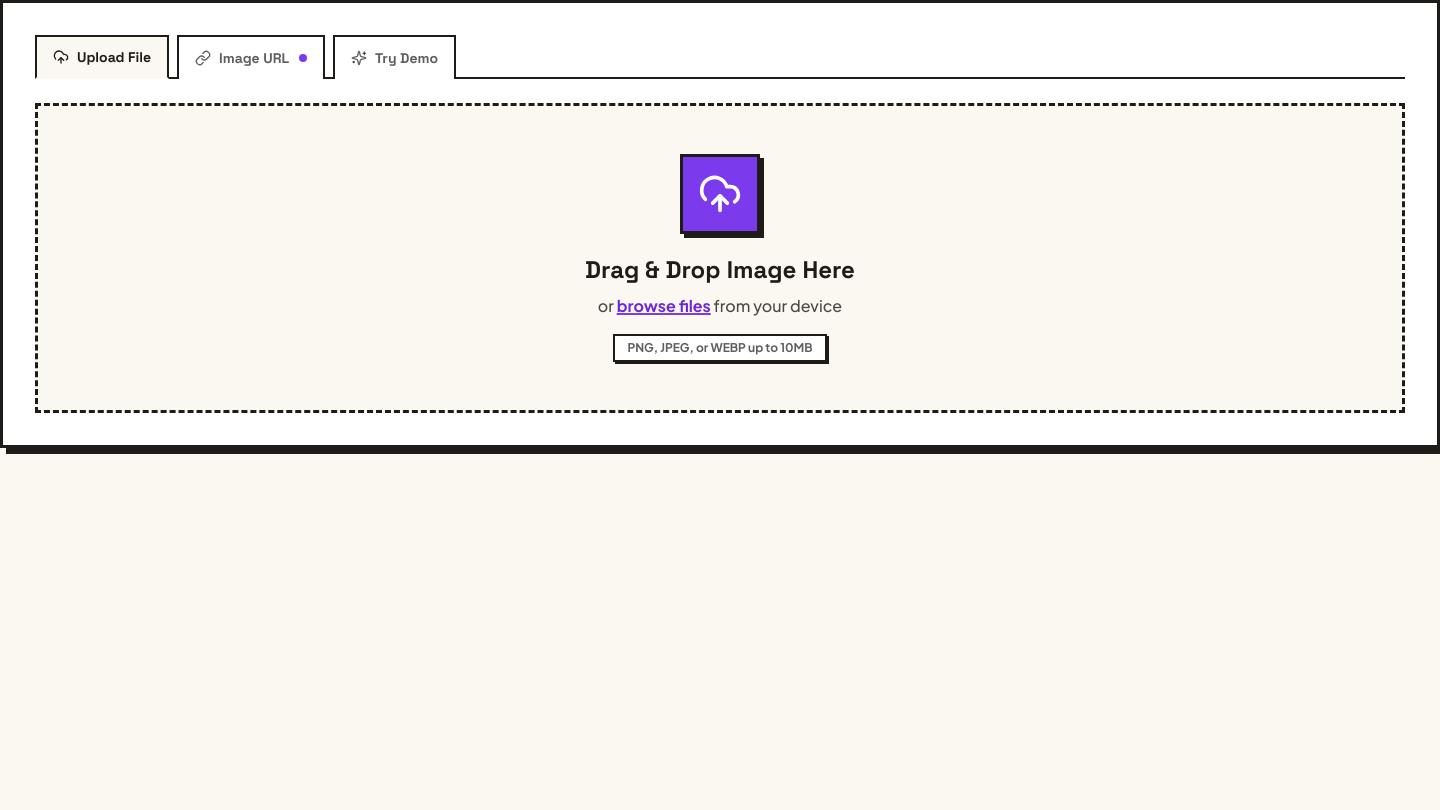
Test: FileDropzone › renders preview card in URL tab when URL image is selected
Step 1. Click the tab "Image URL" → (251, 57), box x1=177 y1=35 x2=325 y2=79
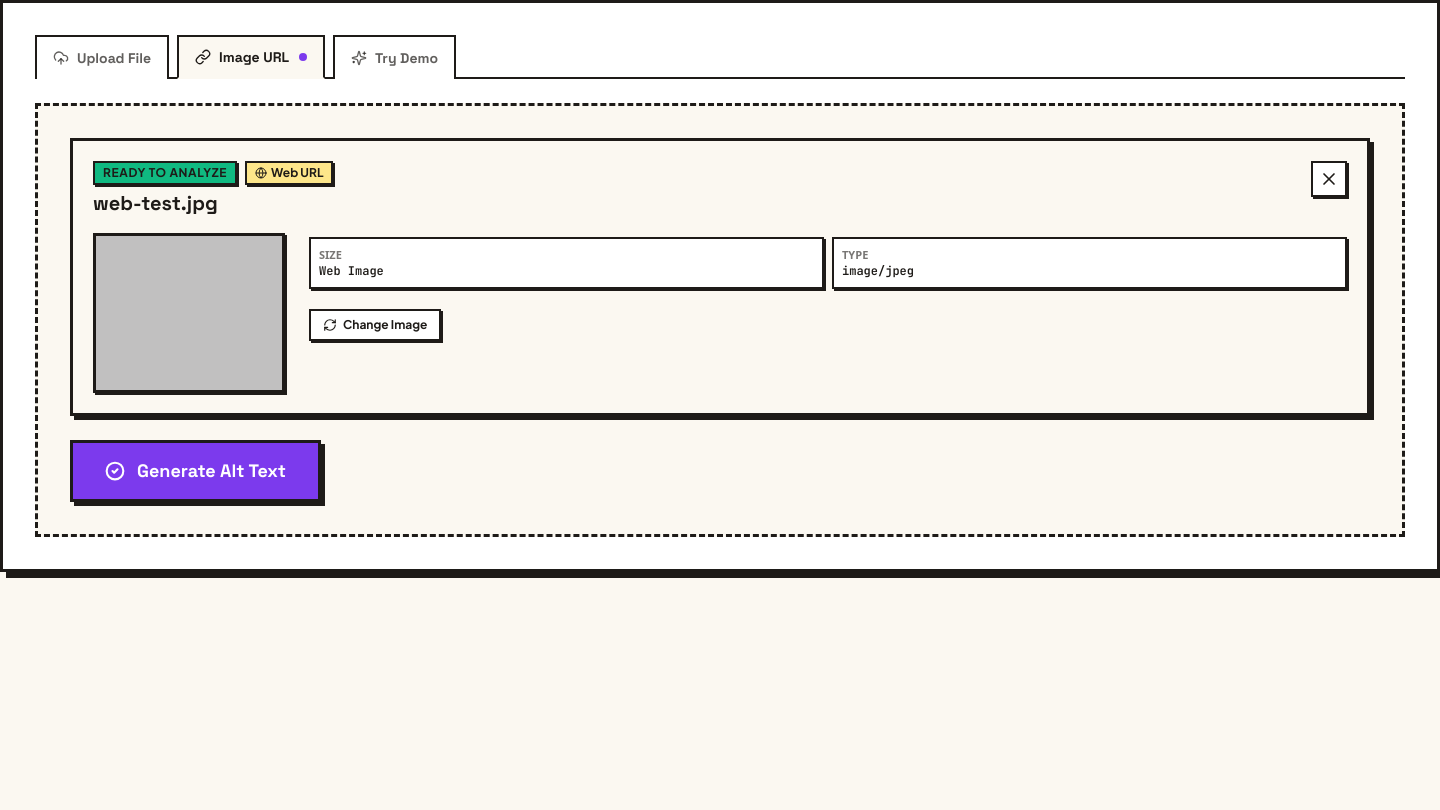
Check: the heading "web-test.jpg" is shown, box x1=93 y1=190 x2=218 y2=216
Check: the text "Web URL" is shown, box x1=271 y1=165 x2=323 y2=181
Check: the text "Web Image" is shown, box x1=319 y1=263 x2=384 y2=279
